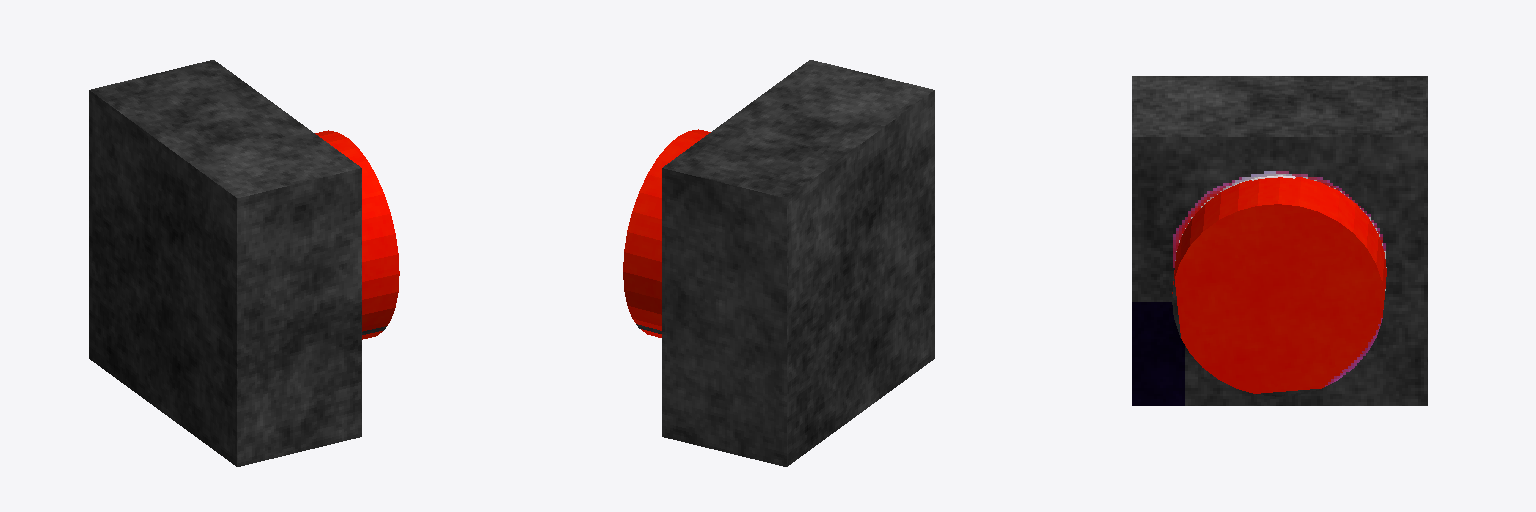
3 renders of one model, left to right at view 1: azimuth 30°, elevation 25°; view 2: azimuth 150°, elevation 25°; view 3: azimuth 270°, elevation 25°, orthographic.
Visible parts, largest first — view 1: Cylinder; view 2: Cylinder; view 3: Cylinder.
Part boxes in pixels (left/top/right/bottom): Cylinder: left=89, top=60, right=399, bottom=466; Cylinder: left=623, top=60, right=934, bottom=466; Cylinder: left=1132, top=76, right=1427, bottom=405.
Bounding box in the file's own units: 0.2016 × 0.2791 × 0.2791.
1 materials, 1 textured.